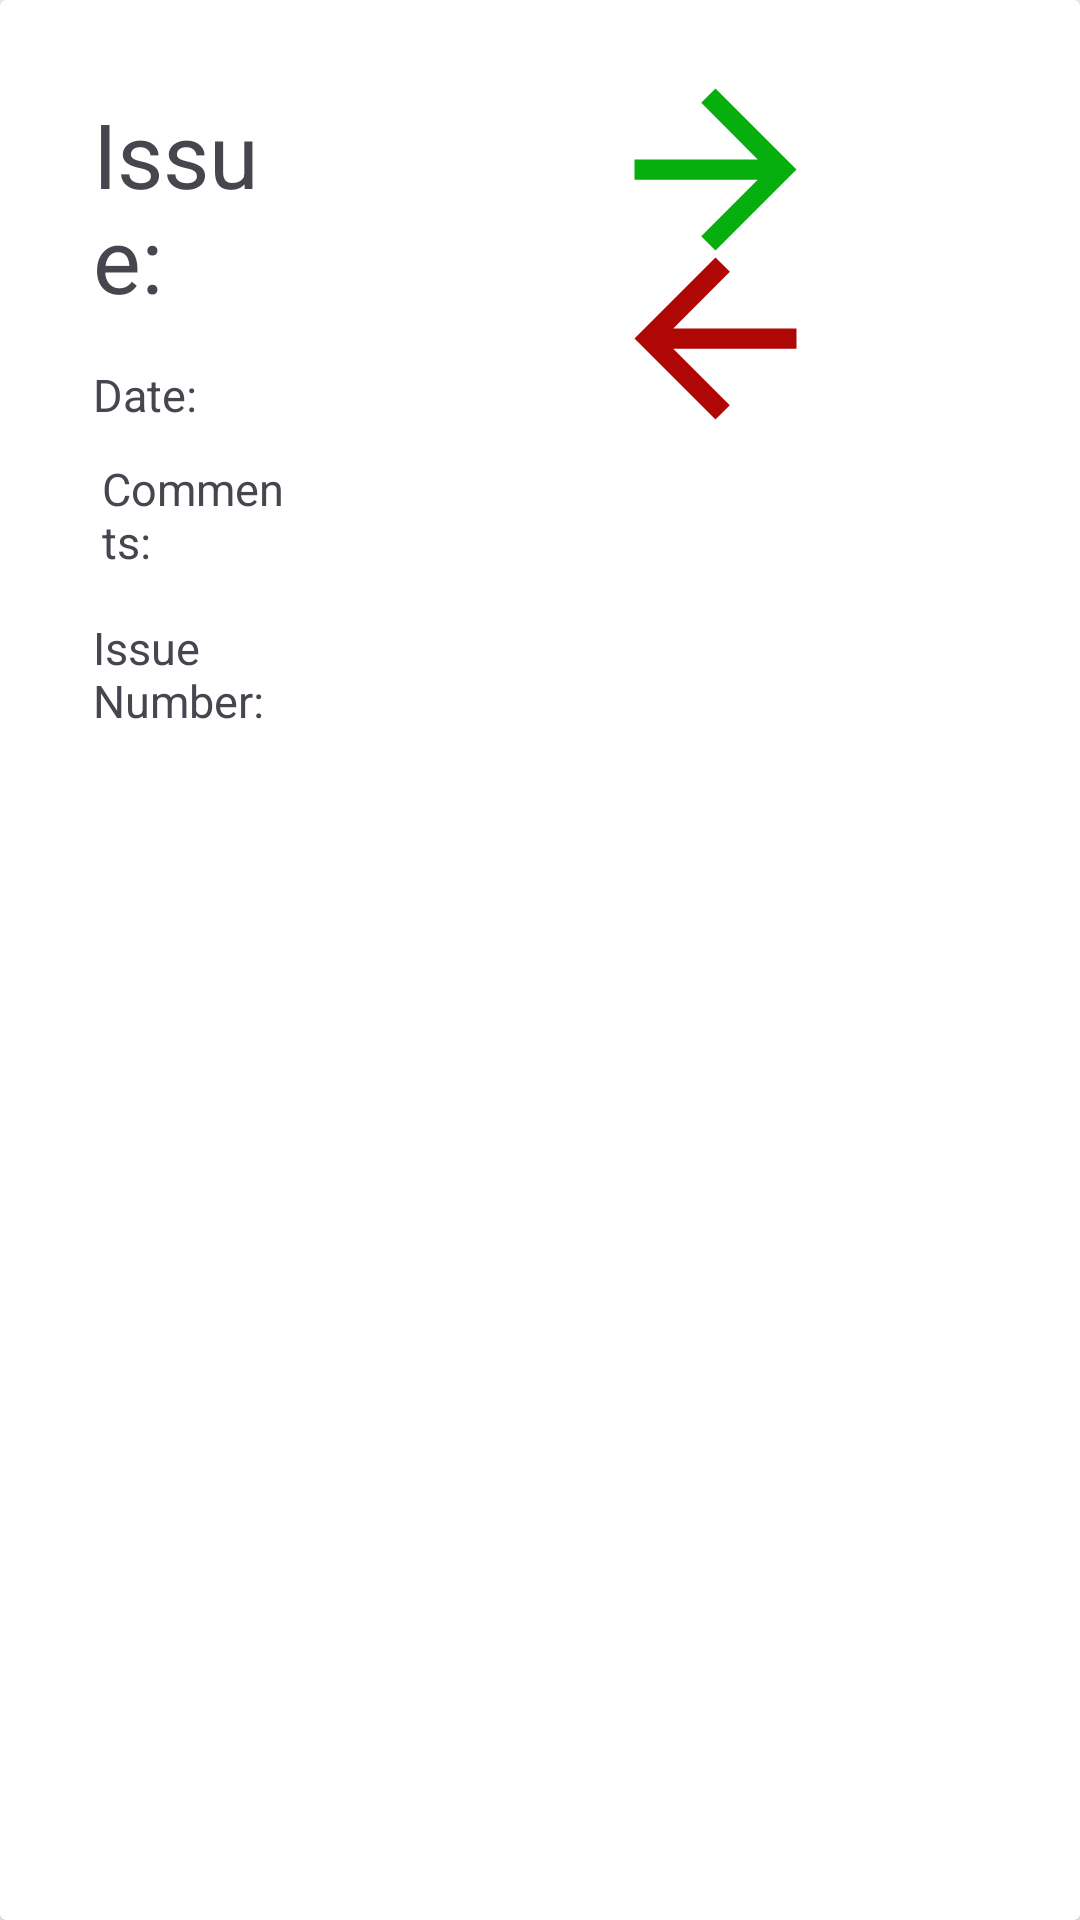

Icons on this 1080 x 1920 Android screen, each with its box as (x1, y1, x2, y2):
arrow back: (634, 257, 797, 420)
arrow forward: (634, 88, 797, 251)
